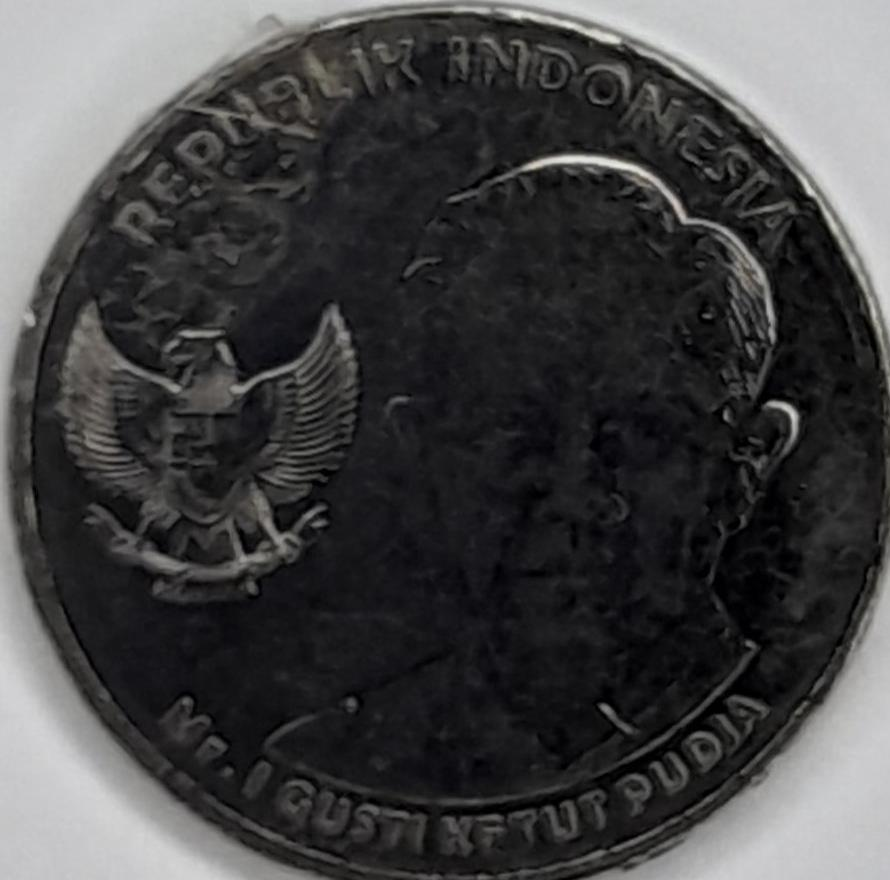coin_1000_e2016: (15, 17, 878, 880)
